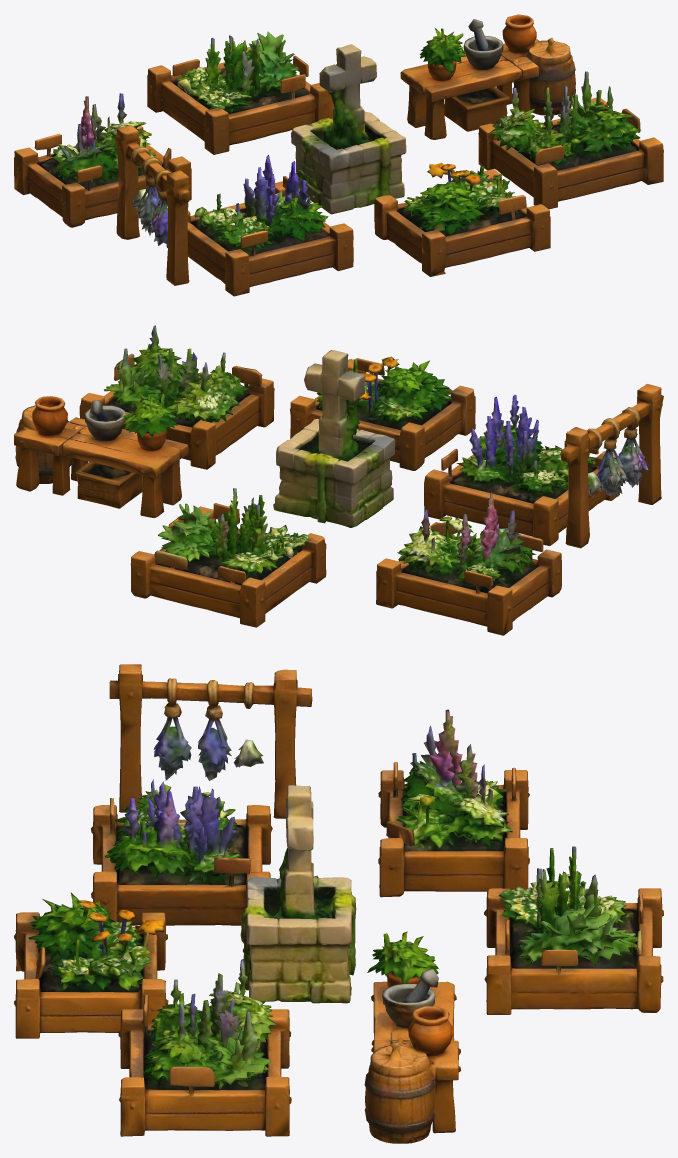
File: garden planter set 3d model.glb
3 views of the same model, one above another, from view 1: azimuth 30°, elevation 25°; view 2: azimuth 150°, elevation 25°; view 3: azimuth 270°, elevation 25° (orthographic). The views are drawn at different scales.
Parts seen in each view (by area): view 1: tripo_node_bb6cbc17-a1f6-4b13-ad2e-e95ca34aaa01; view 2: tripo_node_bb6cbc17-a1f6-4b13-ad2e-e95ca34aaa01; view 3: tripo_node_bb6cbc17-a1f6-4b13-ad2e-e95ca34aaa01.
Part boxes in pixels (x1=…): tripo_node_bb6cbc17-a1f6-4b13-ad2e-e95ca34aaa01: x1=14, y1=14, x2=663, y2=296; tripo_node_bb6cbc17-a1f6-4b13-ad2e-e95ca34aaa01: x1=14, y1=325, x2=663, y2=635; tripo_node_bb6cbc17-a1f6-4b13-ad2e-e95ca34aaa01: x1=14, y1=664, x2=663, y2=1143.
Bounding box in the file's own units: 1 × 0.2687 × 0.8372.
1 material, 1 textured.
